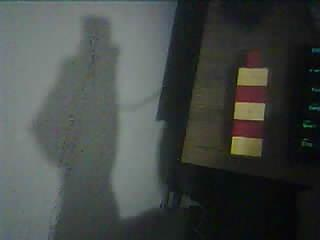lego: (231, 49, 271, 158)
